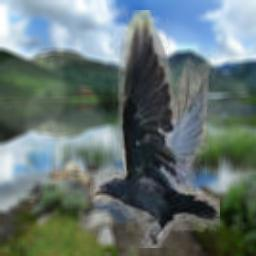Crow: (90, 10, 220, 248)
